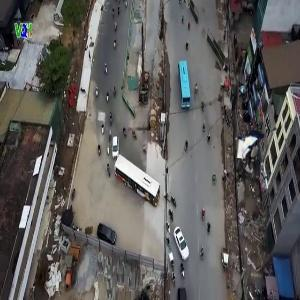drone: (236, 113, 285, 162)
